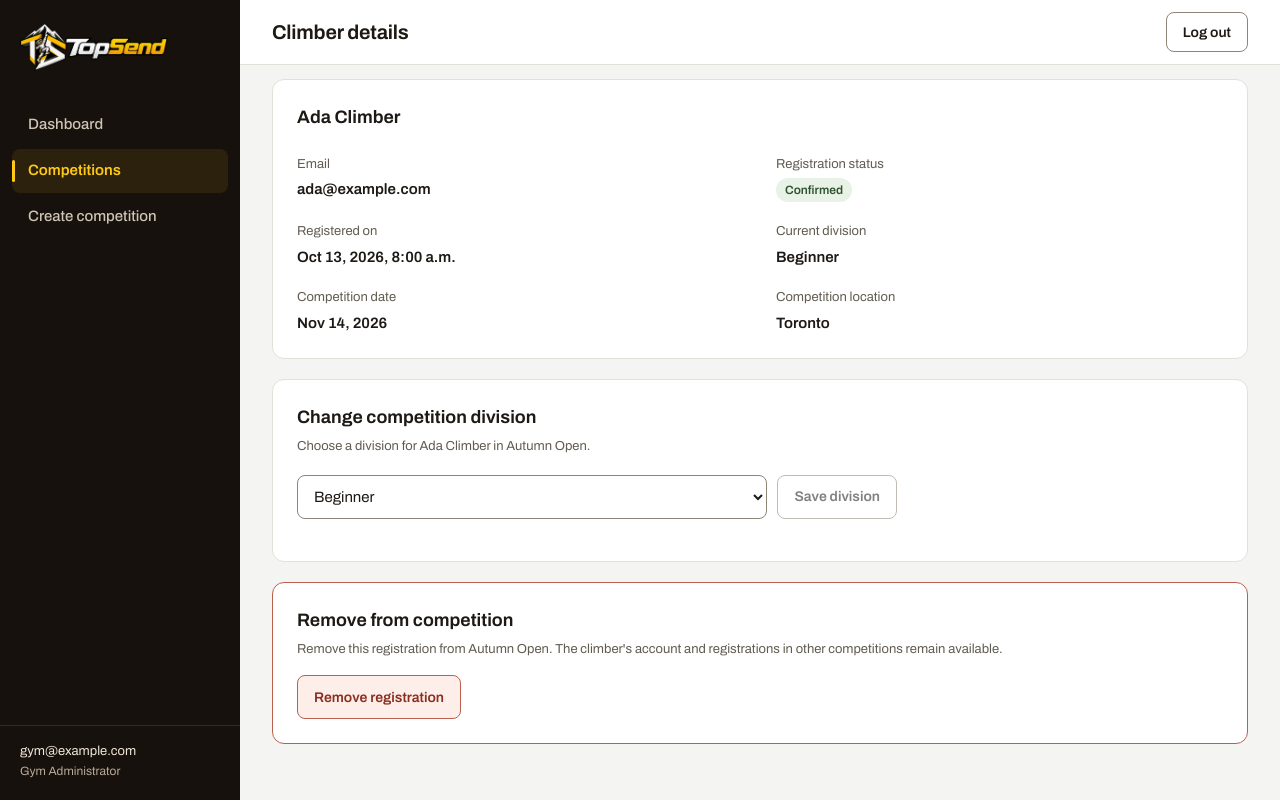
US-015 #68 Climber details, permitted editing and removal › removes only the selected registration after the API confirms deletion
(page scrolled)
Click the button "Remove registration" at (379, 697), box [297, 675, 461, 719]
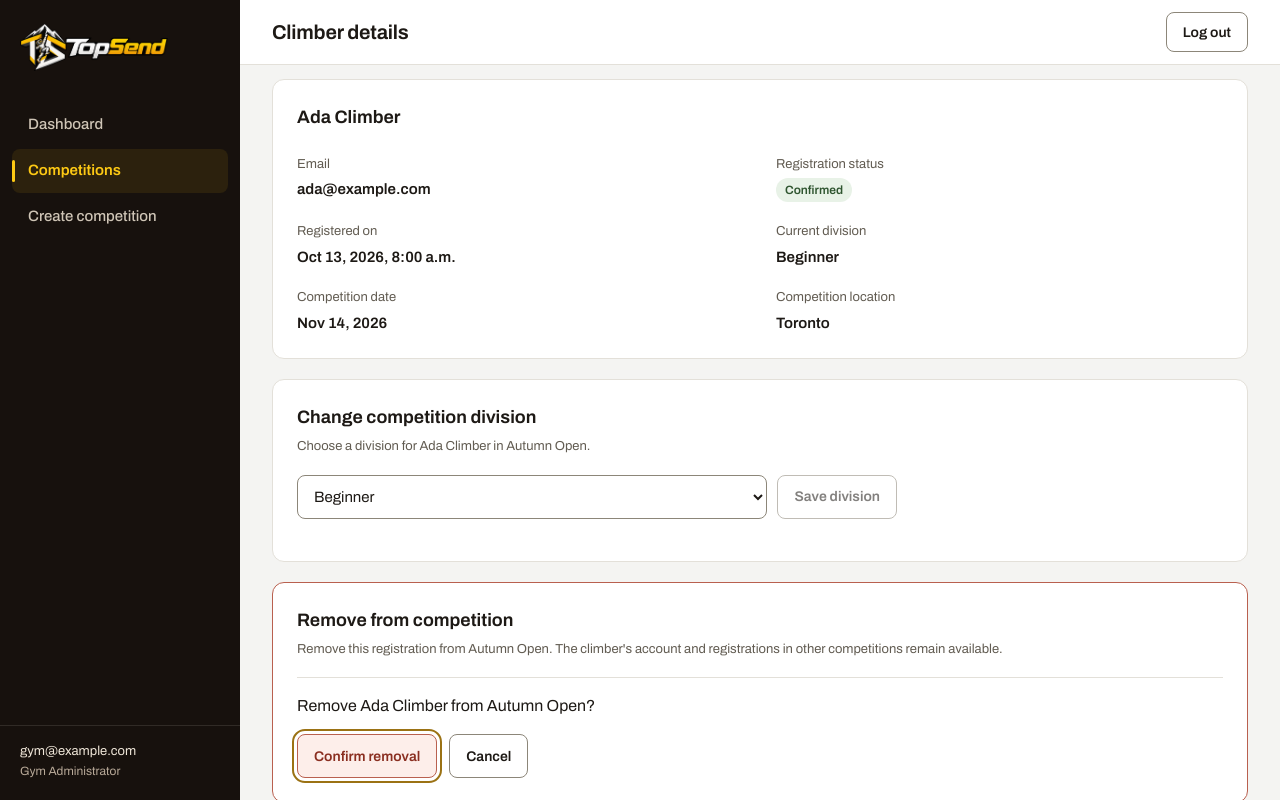
Click the button "Confirm removal" at (367, 756), box [297, 734, 437, 778]
(page scrolled)
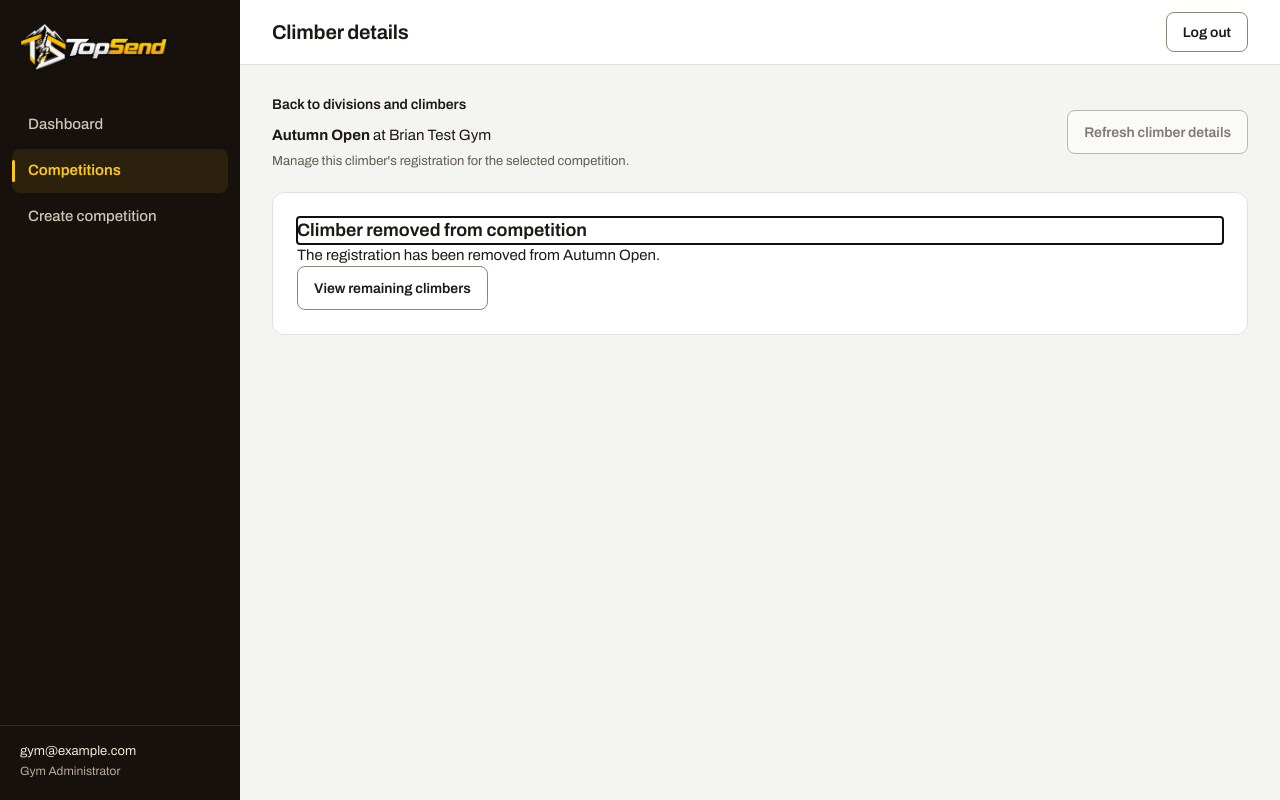
Now the form is gone
